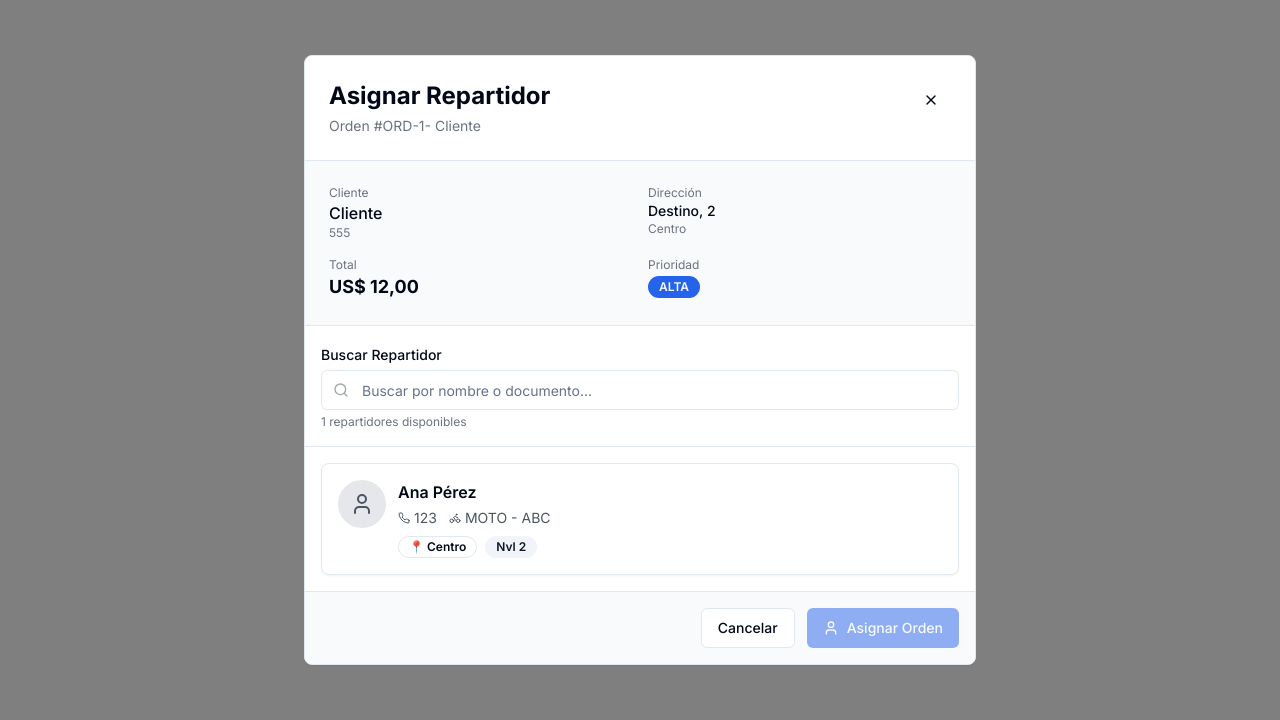
Test: keeps the form open on rejection and permits an explicit retry
Click the button with aria-label "Seleccionar a Ana Pérez" at [362, 504], box 321,463 -> 959,575
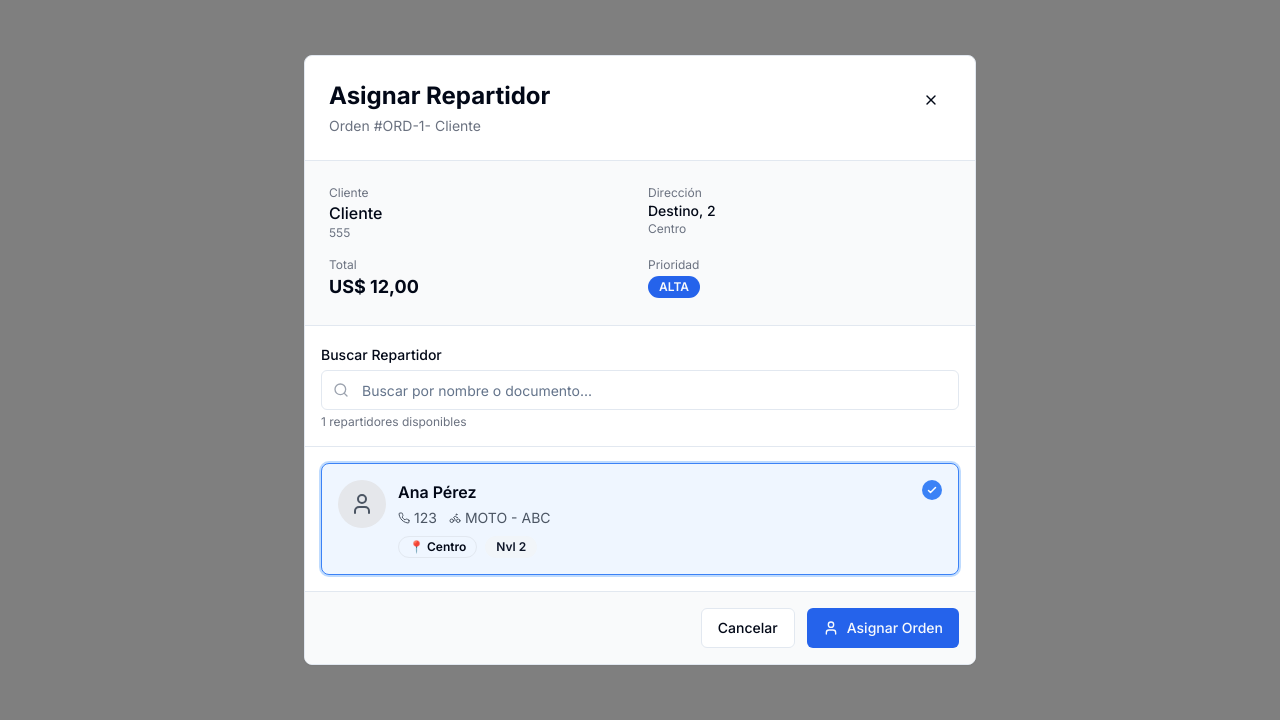
Click the button "Asignar Orden" at [883, 628], box 807,608 -> 959,648
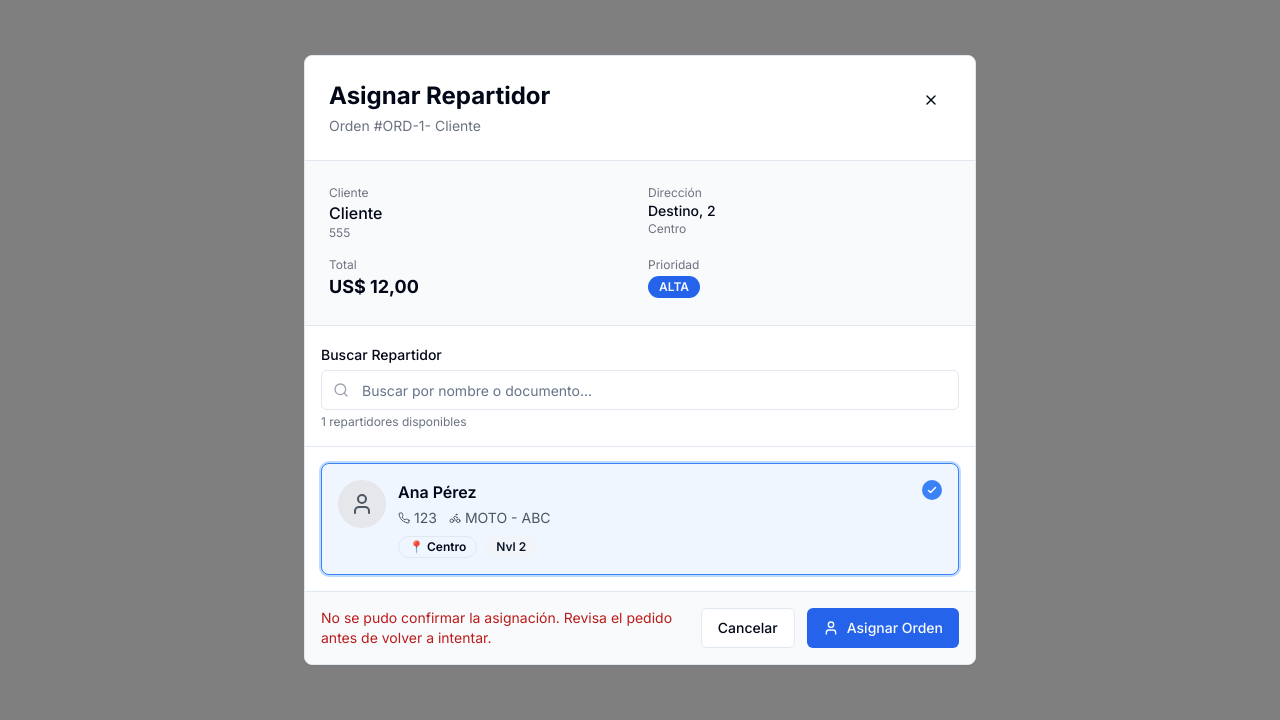
Result: the button "Asignar Orden" is enabled
Result: the message is shown at 321,608 -> 689,648
Click the button "Asignar Orden" at [883, 628], box 807,608 -> 959,648
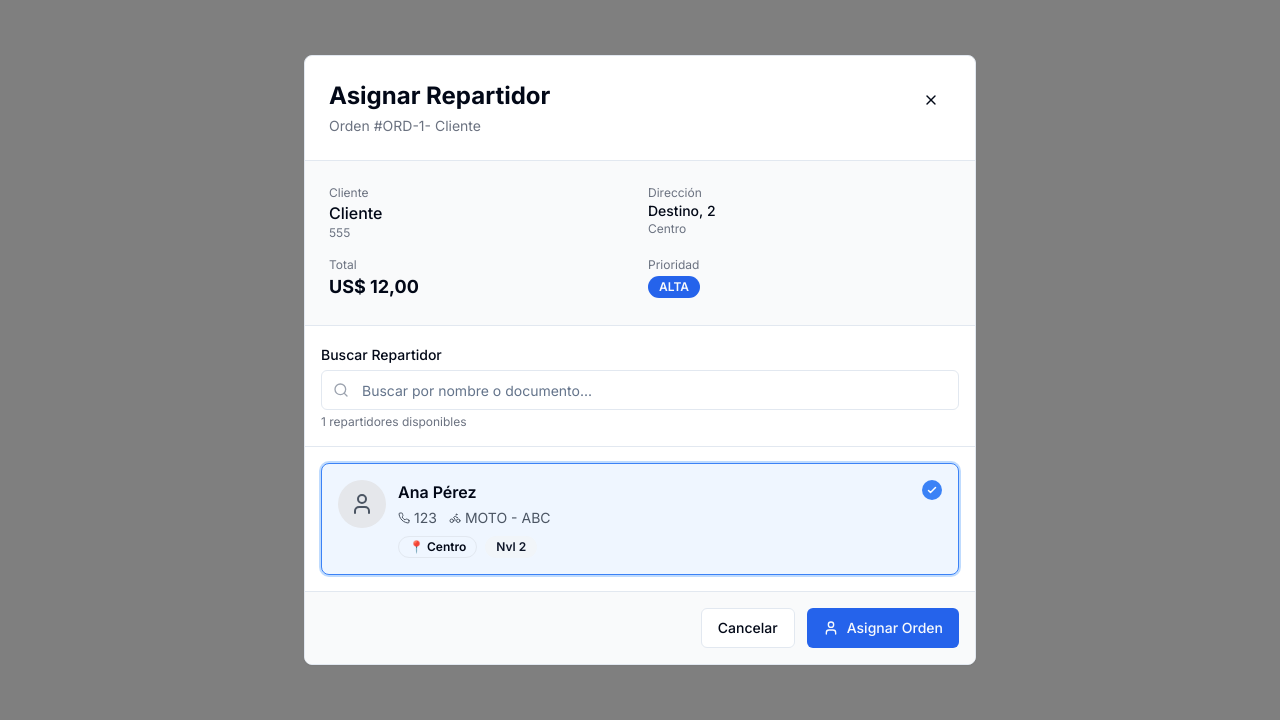
Result: the message is gone
